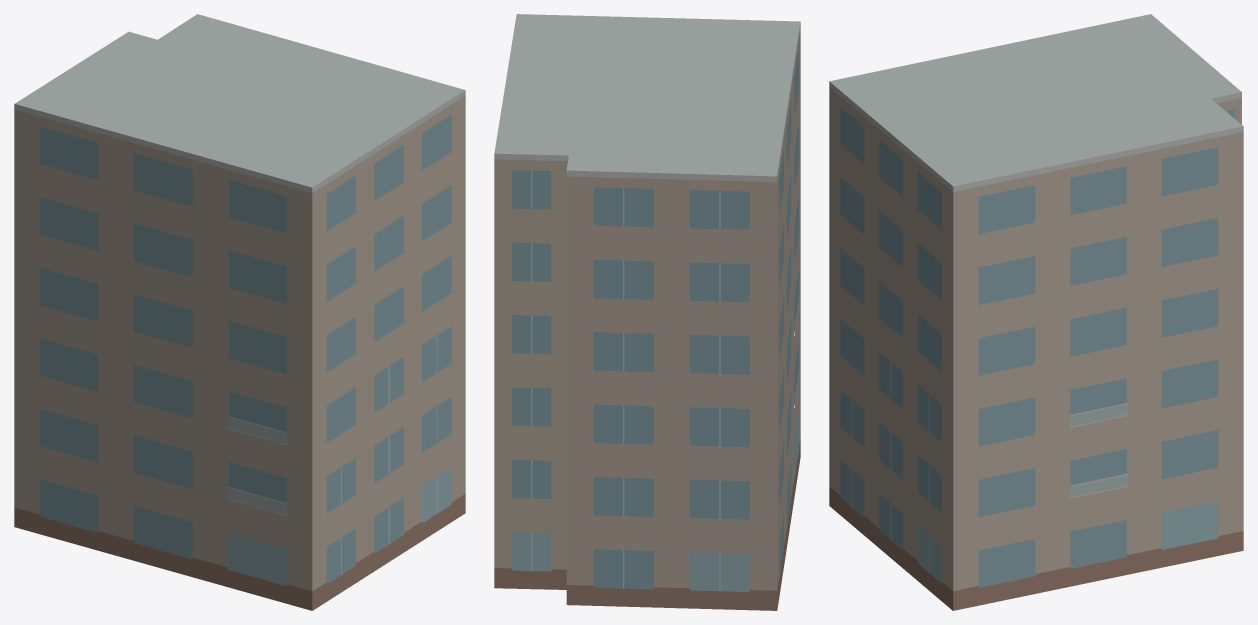
The model's file is survey-upis-32748249.glb.
The picture shows the model from 3 angles, left to right: view 1: azimuth 30°, elevation 25°; view 2: azimuth 150°, elevation 25°; view 3: azimuth 270°, elevation 25°; orthographic projection. The views are drawn at different scales.
Visible parts, largest first — view 1: survey-upis-32748249.tmp; view 2: survey-upis-32748249.tmp; view 3: survey-upis-32748249.tmp.
Part boxes in pixels (<box>): survey-upis-32748249.tmp: <box>14,14,465,610</box>; survey-upis-32748249.tmp: <box>494,14,800,610</box>; survey-upis-32748249.tmp: <box>829,14,1243,610</box>.
Bounding box in the file's own units: 15.96 × 18.3 × 16.2.
